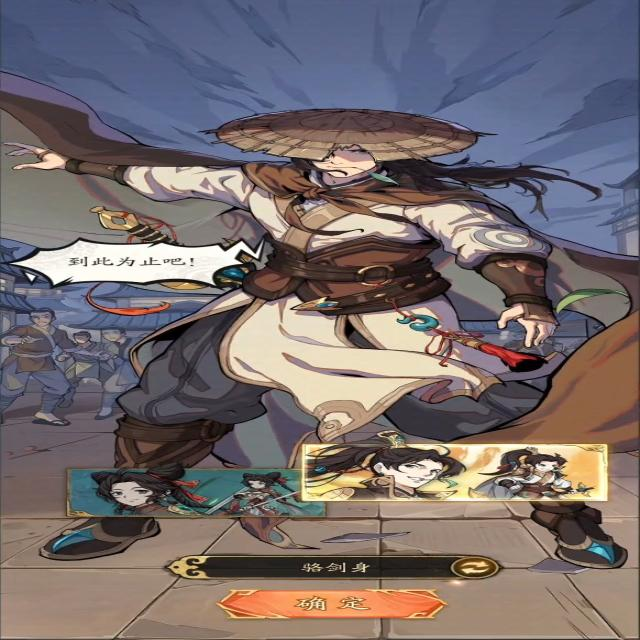operation-confirm: (215, 588, 447, 621)
